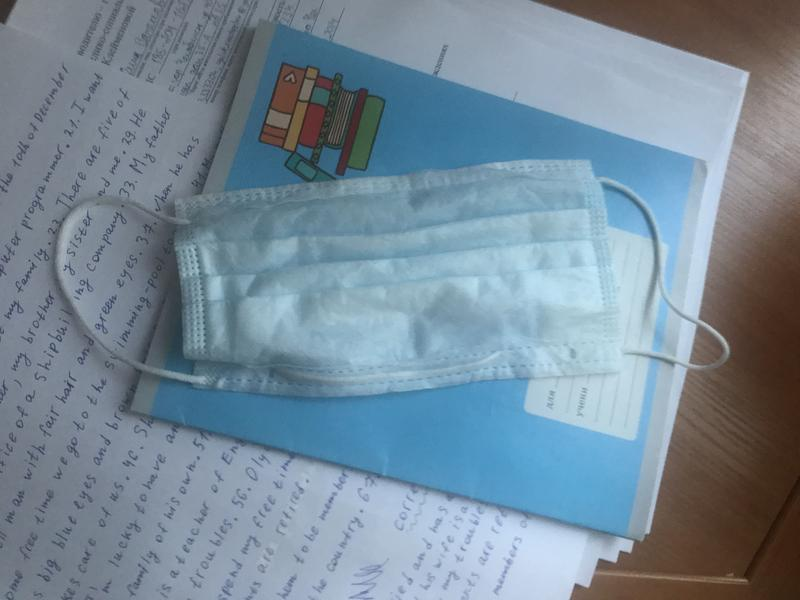medical_mask: (54, 159, 730, 395)
